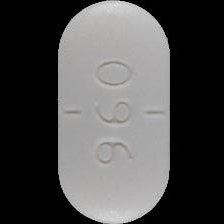68645-465: (0, 0, 224, 224)
